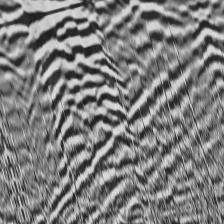cavities: (14, 1, 136, 147)
